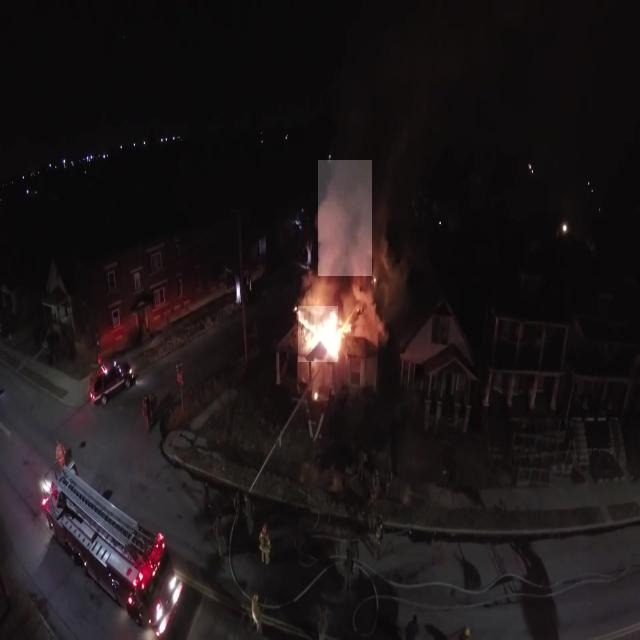Fire: (298, 306, 338, 362)
Smoke: (318, 160, 372, 276)
